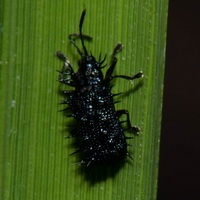insect: (56, 9, 142, 166)
